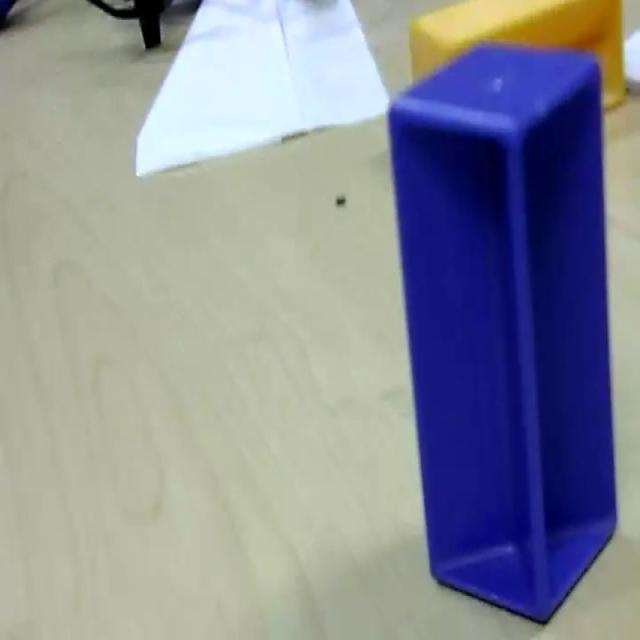blue_block: (386, 40, 619, 623)
yellow_block: (408, 0, 625, 109)
